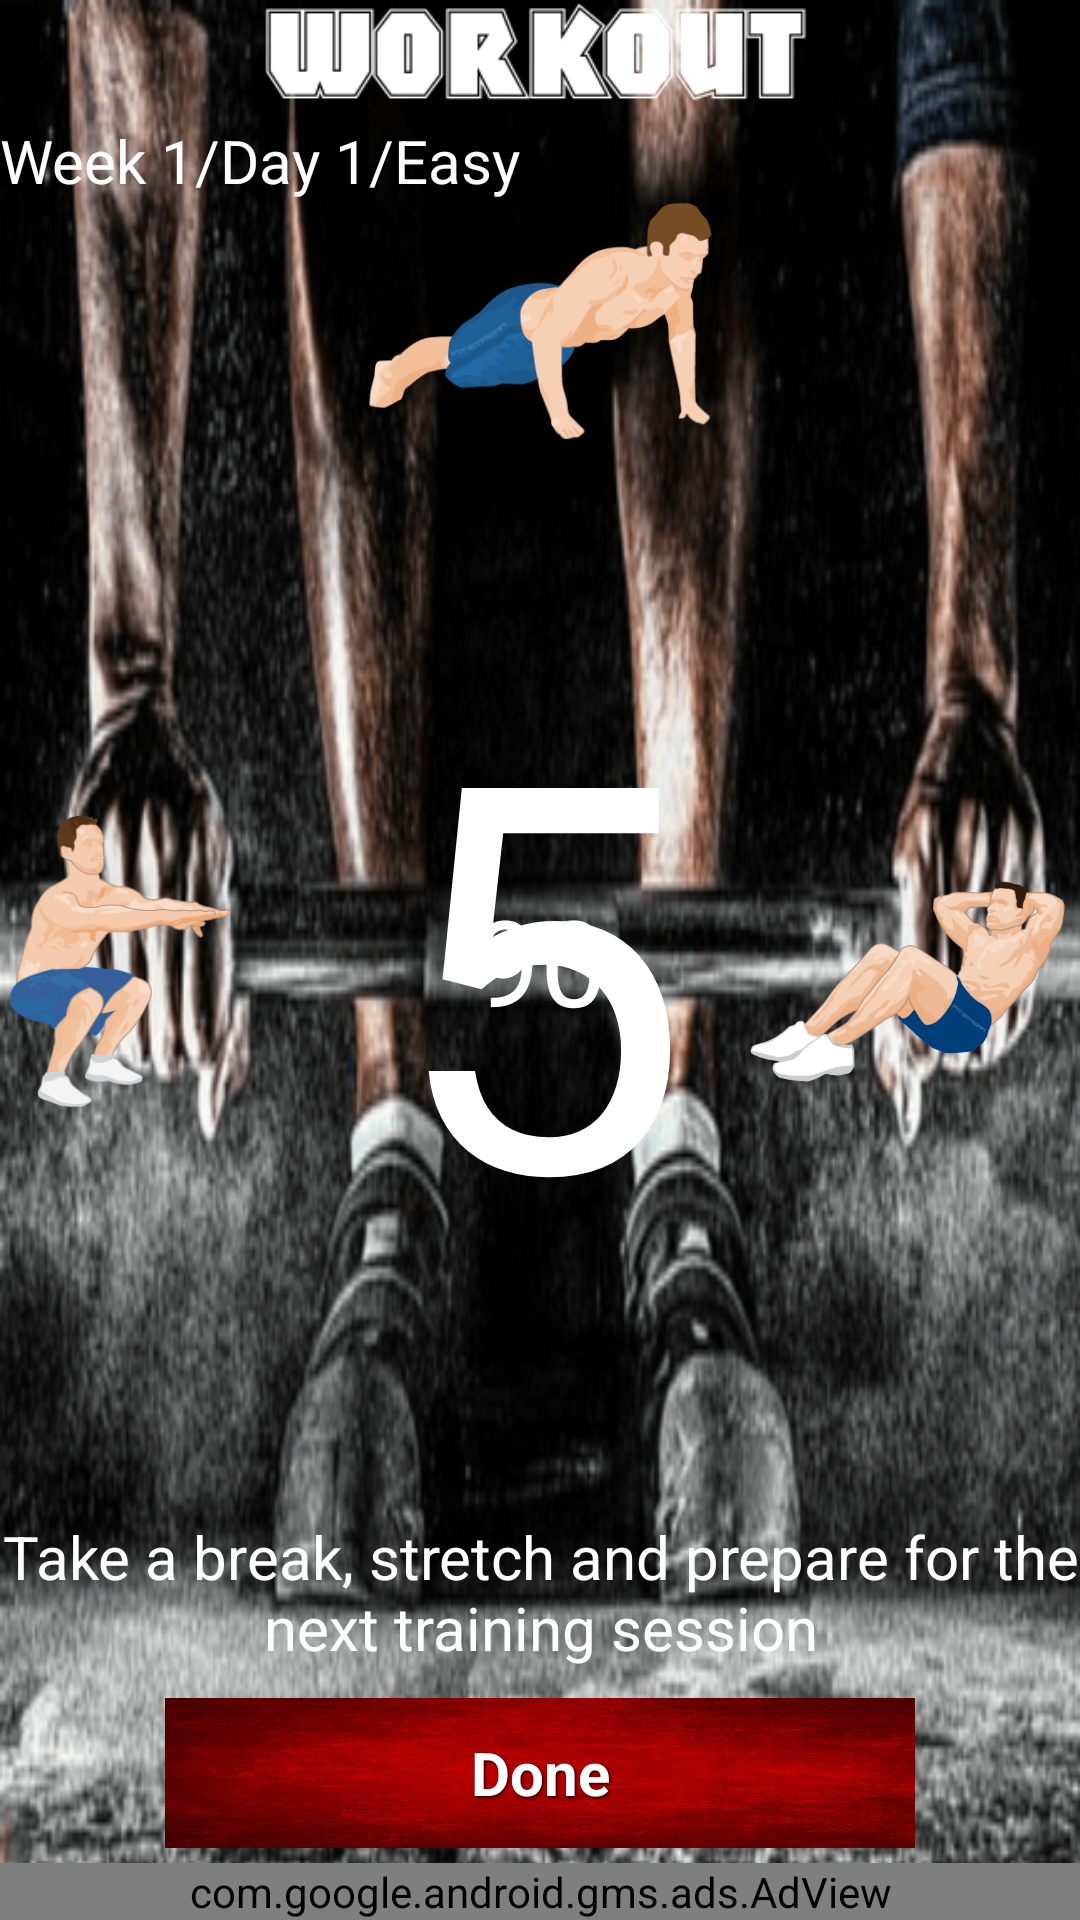

Named icons in this screenshot (1080w x 1920h) and their centers, (x,y):
push up: (541,322)
sit up: (907,960)
squat: (120,960)
